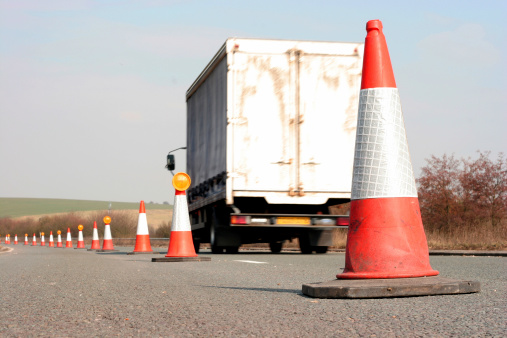trafficcone: (301, 19, 481, 300), (152, 174, 212, 262), (128, 200, 158, 254), (97, 217, 118, 253), (87, 221, 102, 251), (74, 225, 89, 250), (63, 227, 76, 249), (54, 230, 64, 248), (31, 232, 38, 247), (48, 231, 54, 248), (40, 232, 46, 246), (12, 234, 19, 245), (4, 234, 10, 245), (24, 233, 29, 246)
